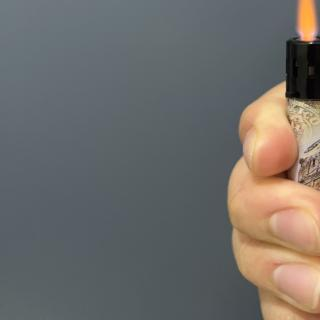fire: (292, 0, 319, 44)
